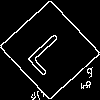L: (25, 25, 78, 77)
